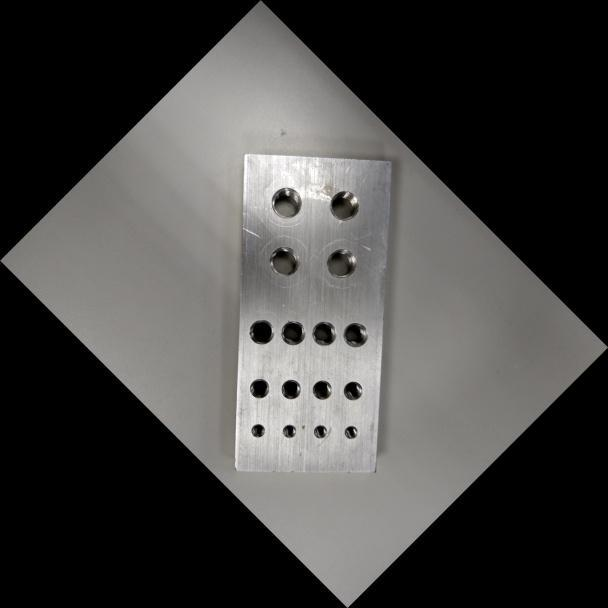hole: (263, 179, 309, 225), (321, 183, 367, 228), (261, 239, 307, 284), (319, 241, 364, 286), (242, 313, 280, 350), (274, 314, 311, 351), (337, 316, 373, 353), (305, 315, 342, 351), (275, 374, 306, 404), (244, 373, 274, 403), (338, 376, 367, 405), (307, 375, 336, 404), (278, 420, 300, 442), (309, 421, 330, 442), (247, 420, 268, 441), (340, 422, 361, 442)
